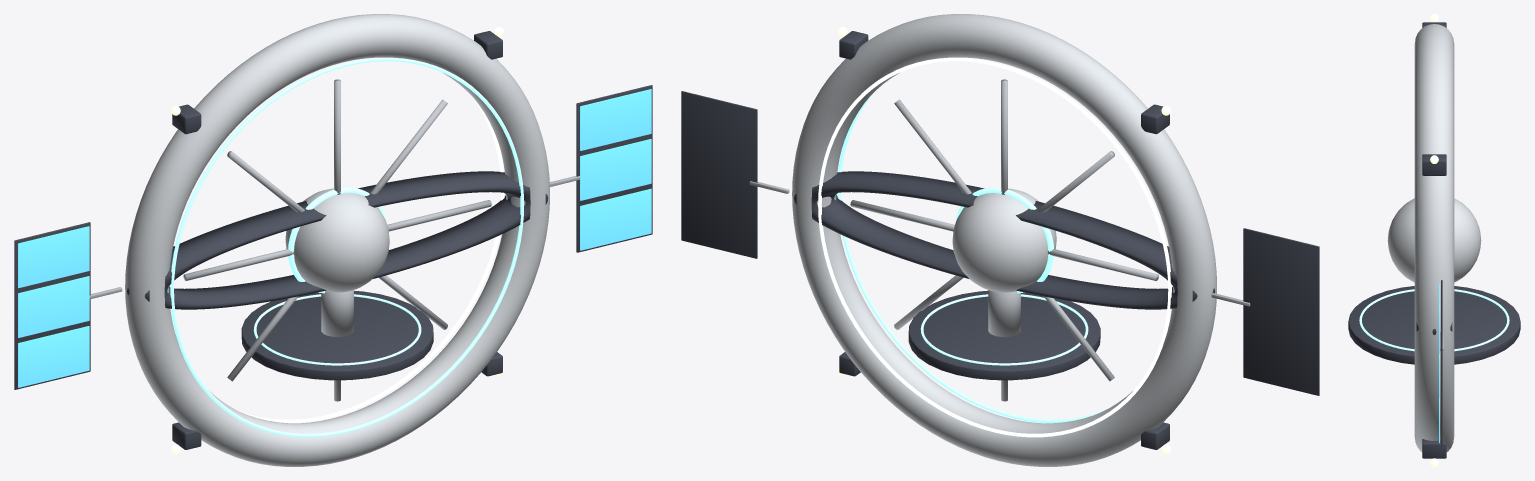
Rendered from hub.glb.
3 renders of one model, left to right at view 1: azimuth 30°, elevation 25°; view 2: azimuth 150°, elevation 25°; view 3: azimuth 270°, elevation 25°, orthographic. The views are drawn at different scales.
Visible parts, largest first — view 1: hub_Hull, hub_Graphite, hub_Screen, hub_Steel, hub_Cyan, hub_Ice; view 2: hub_Hull, hub_Graphite, hub_Steel, hub_Ice, hub_Cyan; view 3: hub_Hull, hub_Graphite, hub_Cyan, hub_Amber.
Part boxes in pixels (<box>): hub_Hull: <box>125,14,549,466</box>; hub_Graphite: <box>14,31,652,449</box>; hub_Screen: <box>18,89,651,387</box>; hub_Steel: <box>89,79,579,401</box>; hub_Cyan: <box>170,57,523,437</box>; hub_Ice: <box>236,92,504,423</box>; hub_Hull: <box>792,14,1216,466</box>; hub_Graphite: <box>681,31,1319,449</box>; hub_Steel: <box>749,79,1250,401</box>; hub_Ice: <box>818,57,1171,437</box>; hub_Cyan: <box>837,93,1104,423</box>; hub_Hull: <box>1387,24,1481,452</box>; hub_Graphite: <box>1348,22,1520,458</box>; hub_Cyan: <box>1359,289,1509,351</box>; hub_Amber: <box>1430,14,1438,466</box>.
Bounding box in the file's own units: 26.8 × 17.6 × 7.
